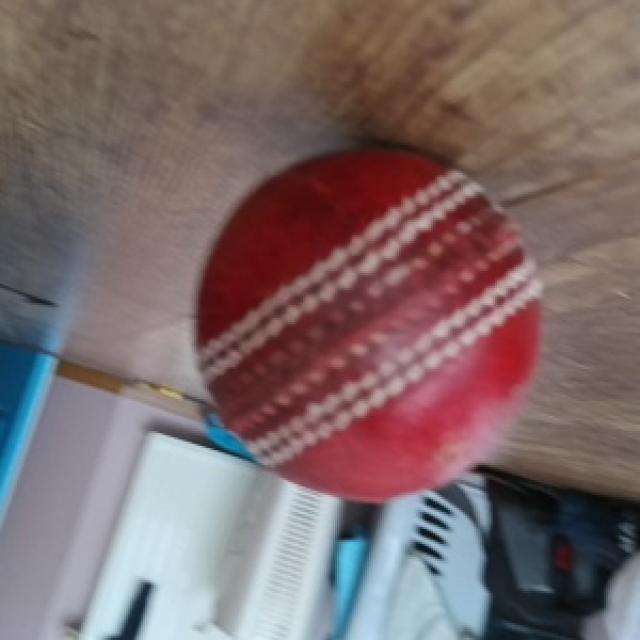ball: (192, 147, 544, 508)
